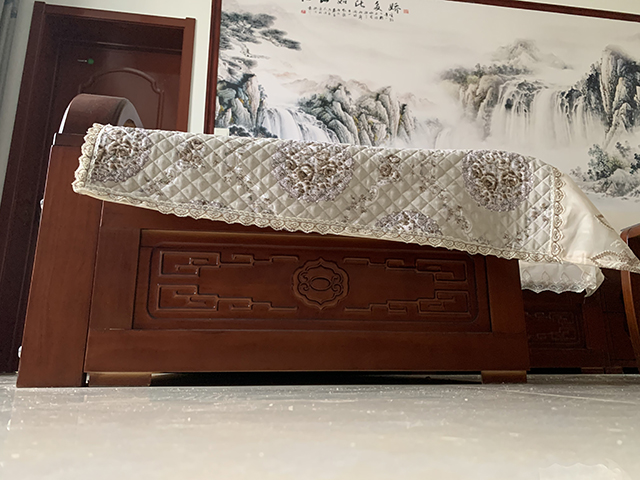sofa: (14, 91, 639, 387)
